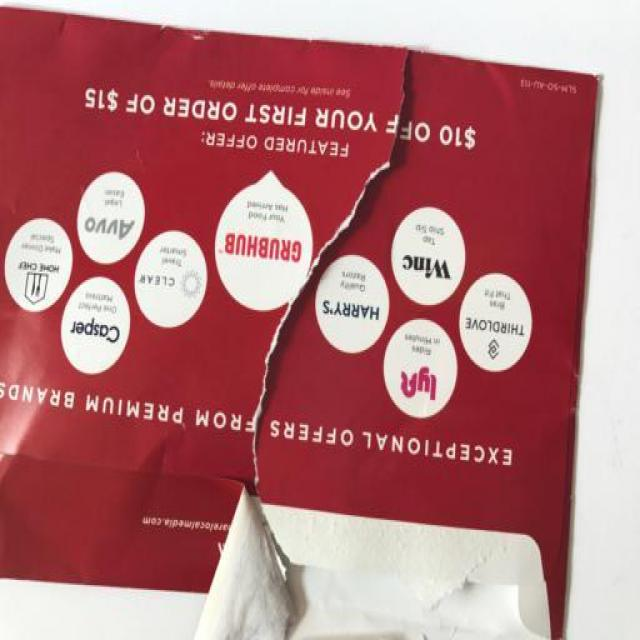paper: (1, 4, 596, 640)
